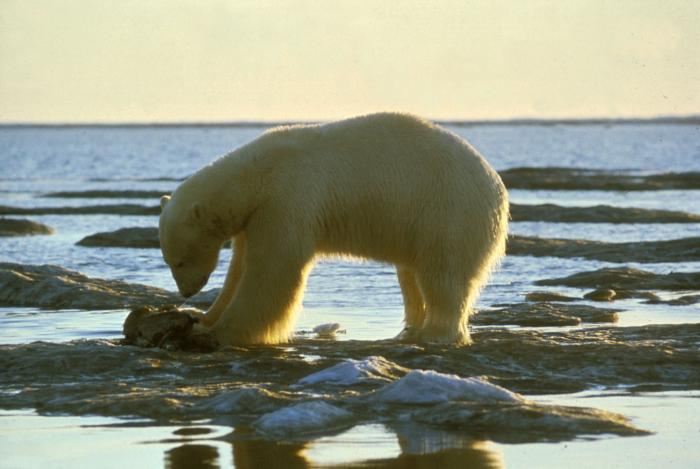Polar Bear: (137, 109, 525, 402)
